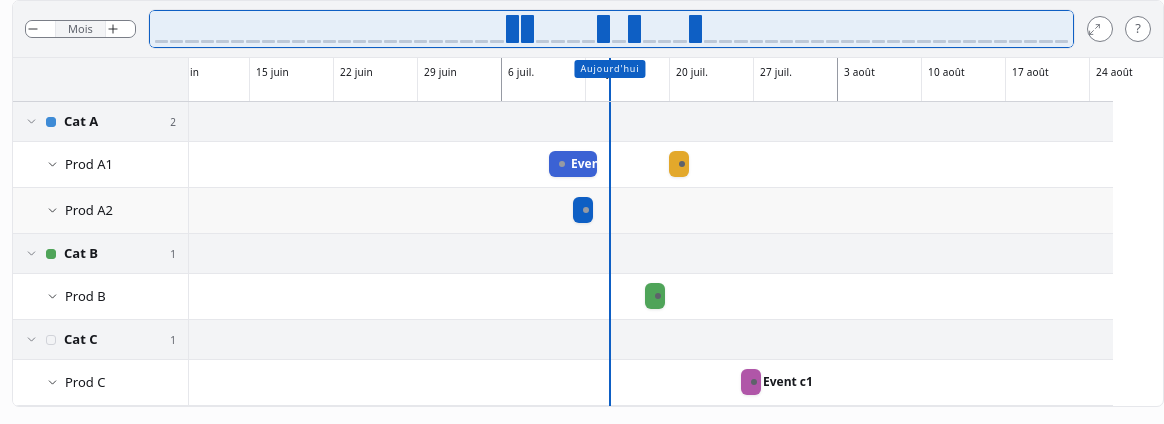
Test: #601 — en-tête de catégorie (frise desktop) › la tête reste un <button> natif `aria-expanded`, sans élément interactif dedans
Step 1. Click the button with test id "timeline-group-head" showing "Cat A 2" → (101, 122), box 13,102 -> 1113,142
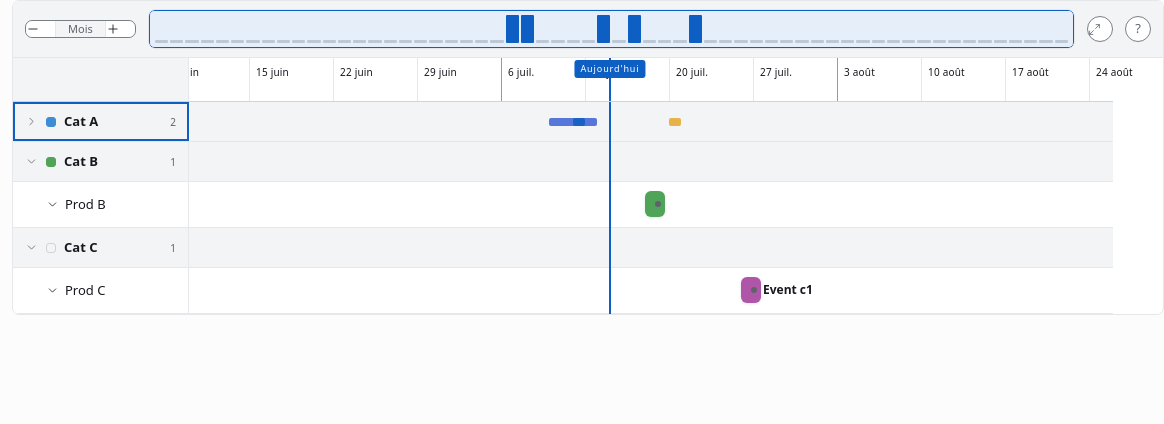
Now the button with test id "timeline-group-head" is collapsed, box 13,102 -> 1113,142
